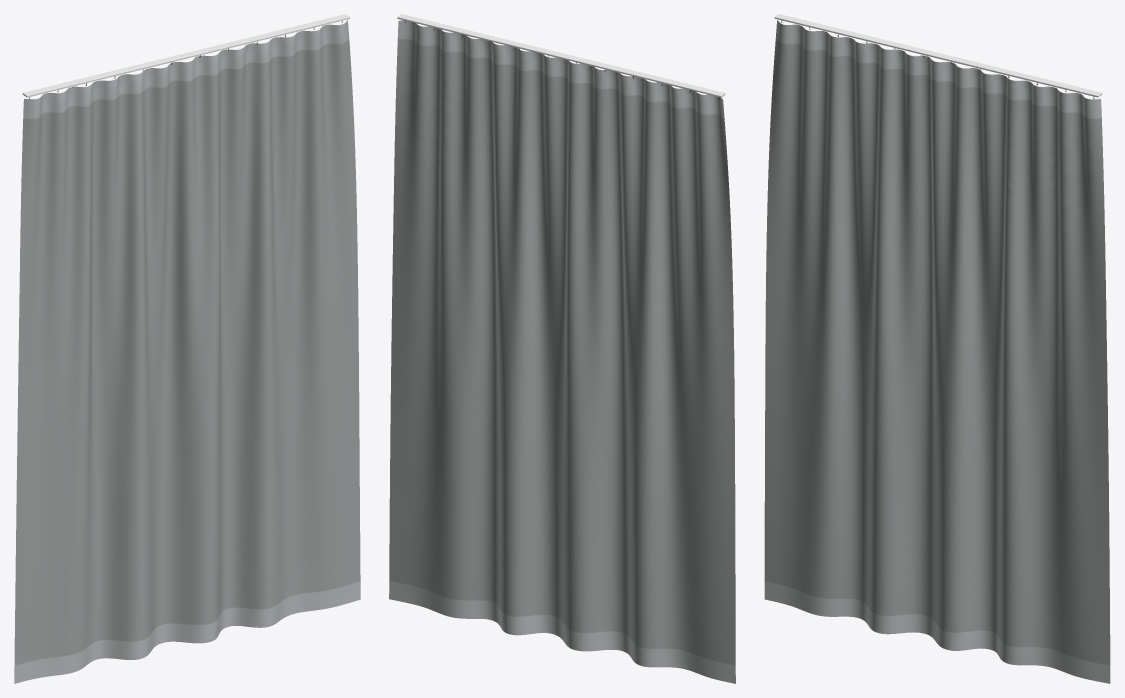
The model's file is curtain_01_06.001.fbx.
3 views of the same model, side by side, from view 1: azimuth 30°, elevation 25°; view 2: azimuth 150°, elevation 25°; view 3: azimuth 330°, elevation 25° (orthographic).
Parts seen in each view (by area): view 1: curtain_01_06.001; view 2: curtain_01_06.001; view 3: curtain_01_06.001.
Boxes of the visible parts, left/top/right/bottom form: curtain_01_06.001: left=14, top=14, right=360, bottom=683; curtain_01_06.001: left=389, top=14, right=735, bottom=683; curtain_01_06.001: left=764, top=14, right=1110, bottom=683.
Bounding box in the file's own units: 141 × 228 × 7.8.
1 material, 1 textured.
